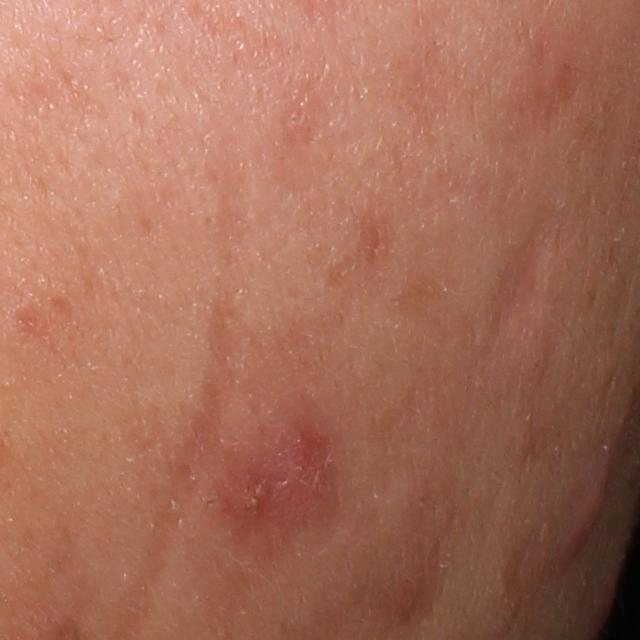atrophic_scar: (487, 208, 557, 357)
papule: (557, 466, 616, 577)
